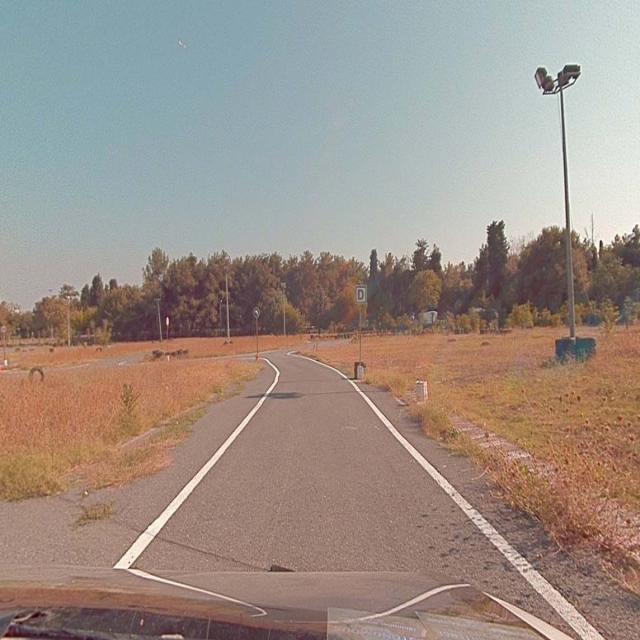durak: (356, 286, 366, 302)
sol: (253, 307, 260, 316)
